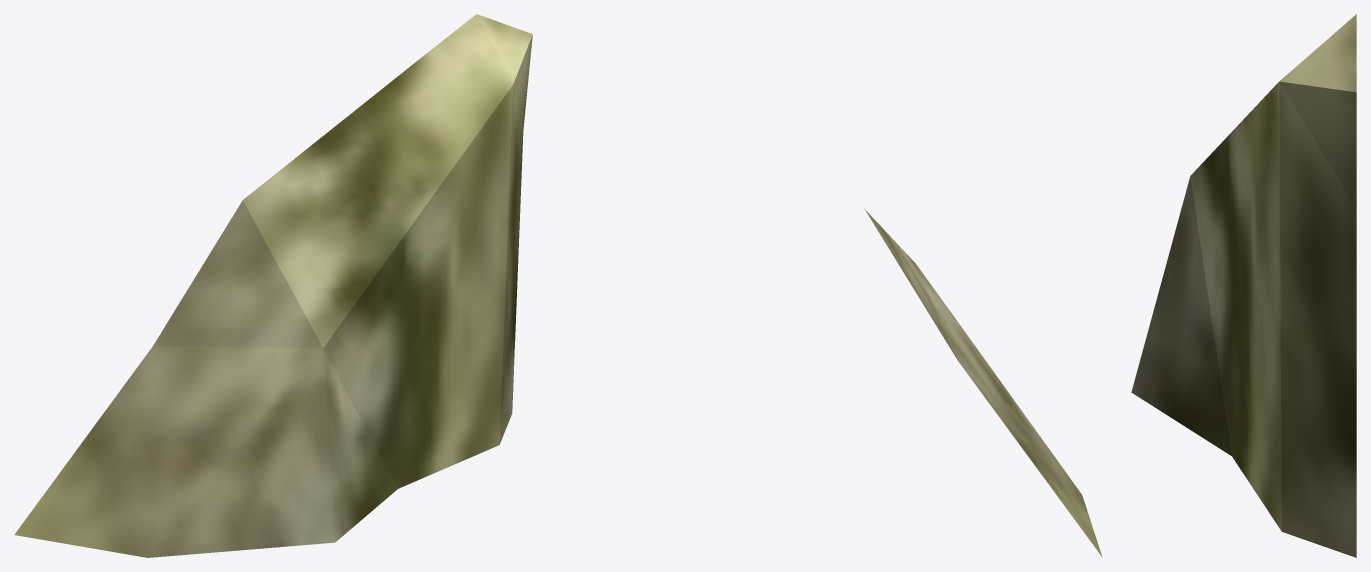
The picture shows the model from 3 angles, left to right: view 1: azimuth 30°, elevation 25°; view 2: azimuth 150°, elevation 25°; view 3: azimuth 270°, elevation 25°; orthographic projection. The views are drawn at different scales.
Bounding box in the file's own units: 0.6463 × 0.486 × 0.1902.
Materials: 1 (1 with a texture image).
